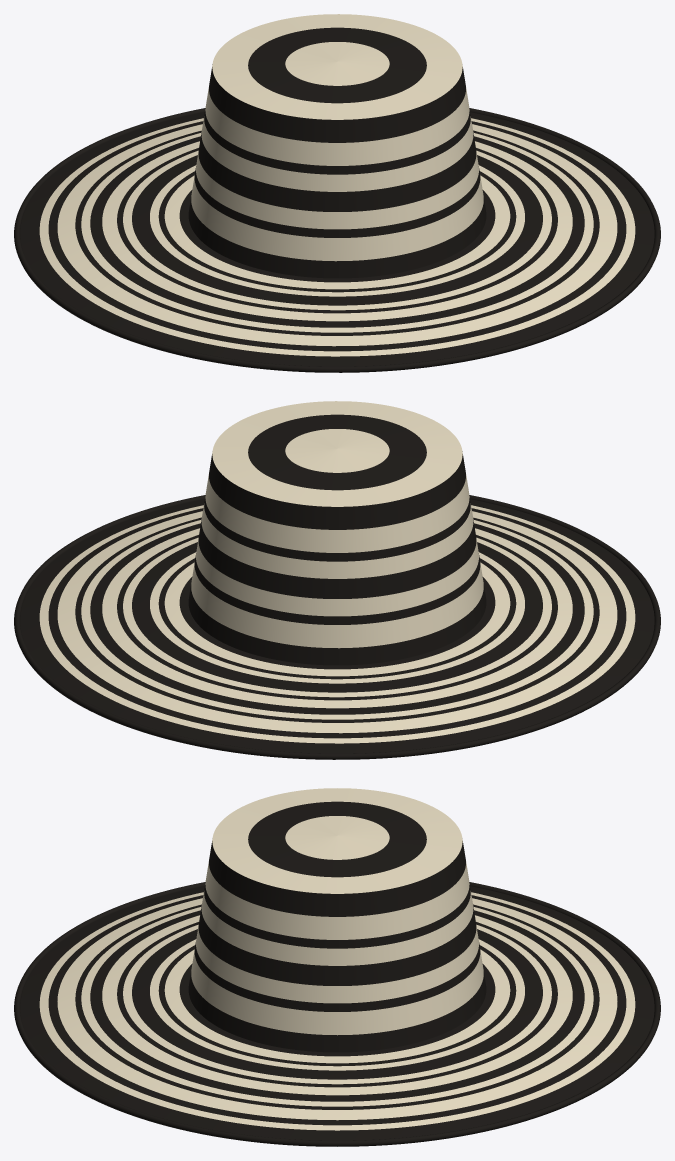
File: sombrero-vueltiao.glb
The picture shows the model from 3 angles, top to bottom: view 1: azimuth 30°, elevation 25°; view 2: azimuth 150°, elevation 25°; view 3: azimuth 270°, elevation 25°; orthographic projection.
Visible parts, largest first — view 1: Ala vuelta 15, Ala vuelta 12, Plato 1, Ala vuelta 8, Ala vuelta 5, Ribete, Plato 2, Copa vuelta 2, Ala vuelta 9, Ala vuelta 14, Ala vuelta 13, Copa vuelta 8 (+16 smaller); view 2: Ala vuelta 15, Ala vuelta 12, Plato 1, Ala vuelta 8, Ala vuelta 5, Ribete, Plato 2, Copa vuelta 2, Ala vuelta 9, Ala vuelta 14, Ala vuelta 13, Copa vuelta 8 (+16 smaller); view 3: Ala vuelta 15, Ala vuelta 12, Plato 1, Ala vuelta 8, Ala vuelta 5, Ribete, Plato 2, Copa vuelta 2, Ala vuelta 9, Ala vuelta 14, Ala vuelta 13, Copa vuelta 8 (+16 smaller).
Boxes of the visible parts, x1=… form: Ala vuelta 15: x1=20, y1=112, x2=654, y2=366; Ala vuelta 12: x1=57, y1=124, x2=617, y2=346; Plato 1: x1=212, y1=14, x2=462, y2=119; Ala vuelta 8: x1=102, y1=141, x2=572, y2=321; Ala vuelta 5: x1=132, y1=155, x2=542, y2=305; Ribete: x1=14, y1=108, x2=660, y2=372; Plato 2: x1=248, y1=27, x2=426, y2=103; Copa vuelta 2: x1=191, y1=176, x2=483, y2=261; Ala vuelta 9: x1=90, y1=136, x2=584, y2=327; Ala vuelta 14: x1=39, y1=118, x2=635, y2=356; Ala vuelta 13: x1=48, y1=121, x2=626, y2=351; Copa vuelta 8: x1=205, y1=87, x2=469, y2=165; Ala vuelta 15: x1=20, y1=499, x2=654, y2=753; Ala vuelta 12: x1=57, y1=511, x2=617, y2=733; Plato 1: x1=212, y1=401, x2=462, y2=506; Ala vuelta 8: x1=102, y1=528, x2=572, y2=708; Ala vuelta 5: x1=132, y1=542, x2=542, y2=692; Ribete: x1=14, y1=495, x2=660, y2=759; Plato 2: x1=248, y1=414, x2=426, y2=490; Copa vuelta 2: x1=191, y1=563, x2=483, y2=648; Ala vuelta 9: x1=90, y1=523, x2=584, y2=714; Ala vuelta 14: x1=39, y1=505, x2=635, y2=743; Ala vuelta 13: x1=48, y1=508, x2=626, y2=738; Copa vuelta 8: x1=205, y1=474, x2=469, y2=552; Ala vuelta 15: x1=20, y1=886, x2=654, y2=1140; Ala vuelta 12: x1=57, y1=898, x2=617, y2=1120; Plato 1: x1=212, y1=788, x2=462, y2=893; Ala vuelta 8: x1=102, y1=915, x2=572, y2=1095; Ala vuelta 5: x1=132, y1=929, x2=542, y2=1079; Ribete: x1=14, y1=882, x2=660, y2=1146; Plato 2: x1=248, y1=801, x2=426, y2=877; Copa vuelta 2: x1=191, y1=951, x2=483, y2=1035; Ala vuelta 9: x1=90, y1=910, x2=584, y2=1101; Ala vuelta 14: x1=39, y1=892, x2=635, y2=1130; Ala vuelta 13: x1=48, y1=895, x2=626, y2=1125; Copa vuelta 8: x1=205, y1=861, x2=469, y2=939.
Size of the model in its own units: 0.4344 by 0.1302 by 0.4344.
